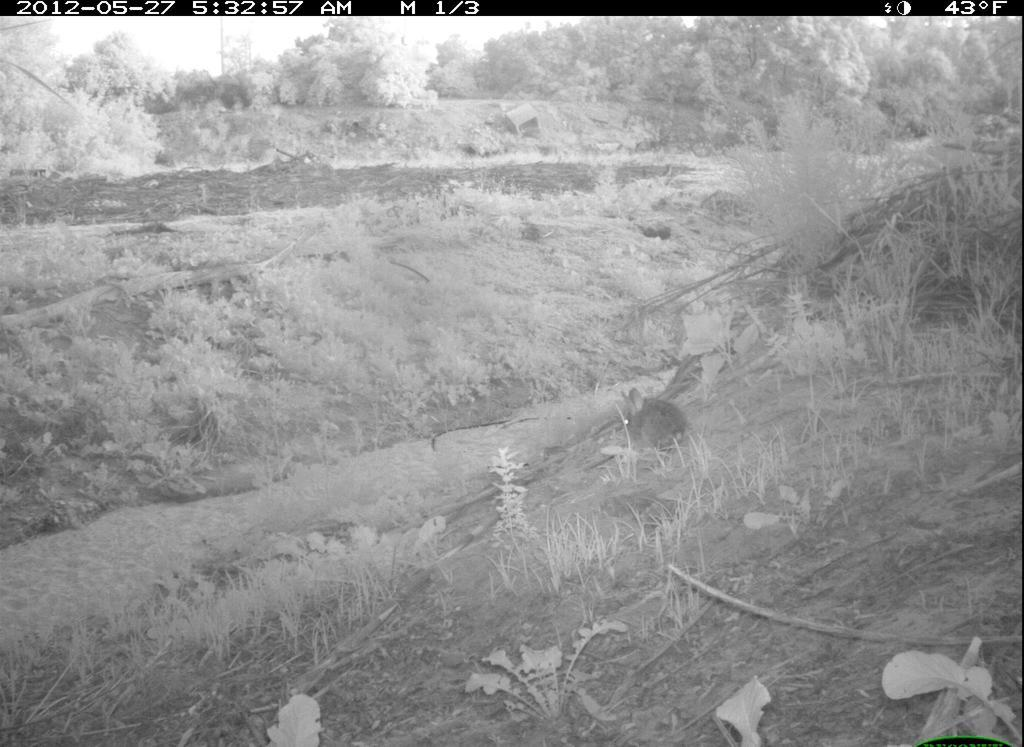rabbit: (614, 379, 710, 464)
